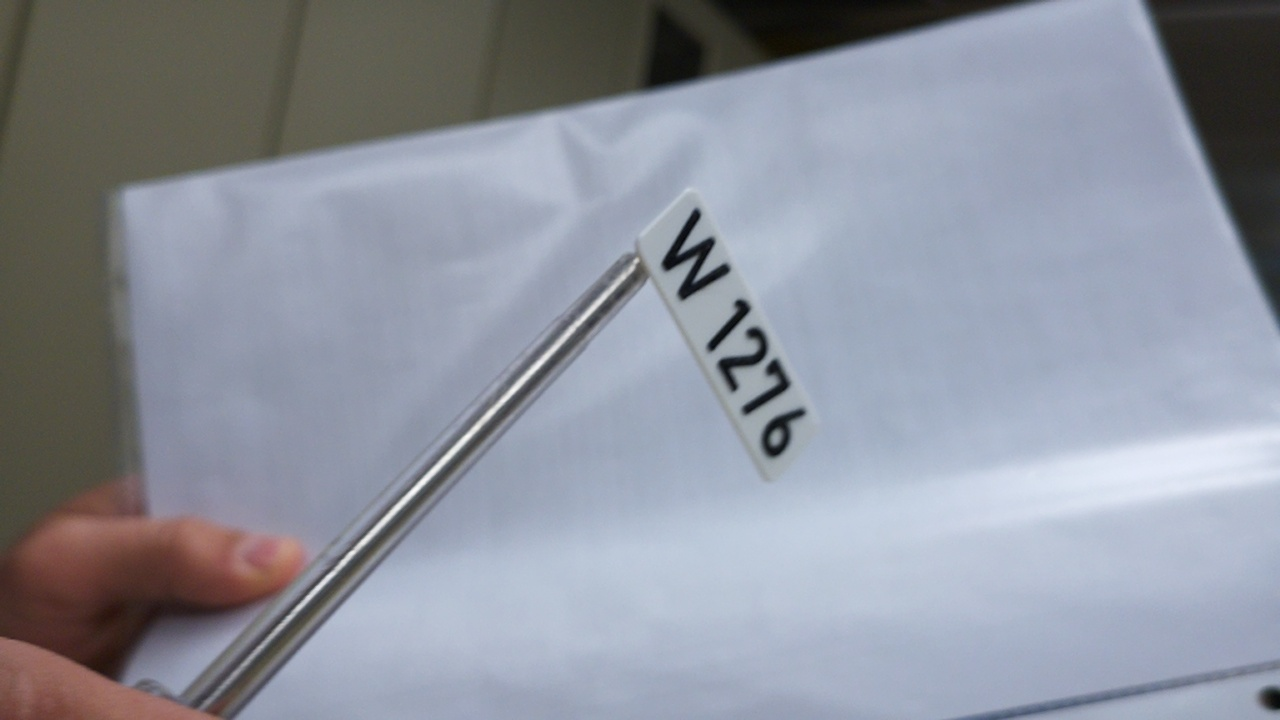license_plate: (631, 183, 825, 484)
